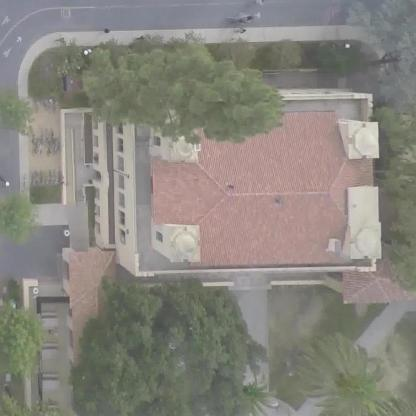Bicyclist: (227, 12, 260, 26)
Pedestrian: (52, 35, 66, 46), (235, 26, 247, 38), (132, 31, 144, 43), (93, 27, 112, 34)
